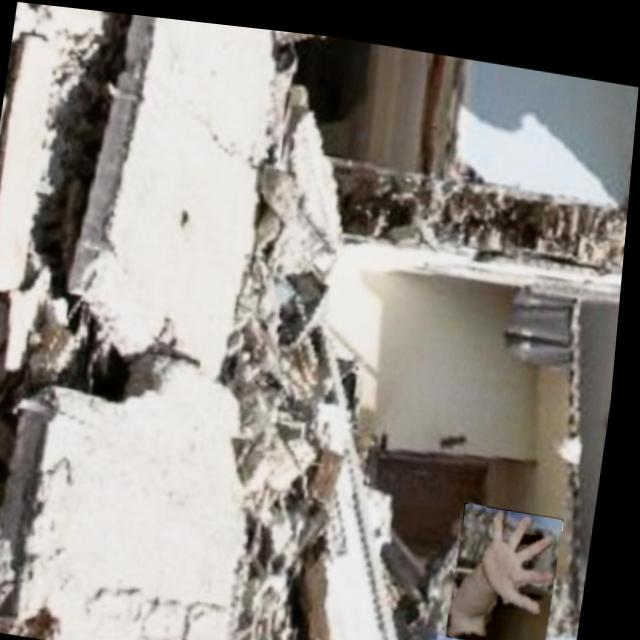Person in Rubble: (455, 490, 571, 640)
